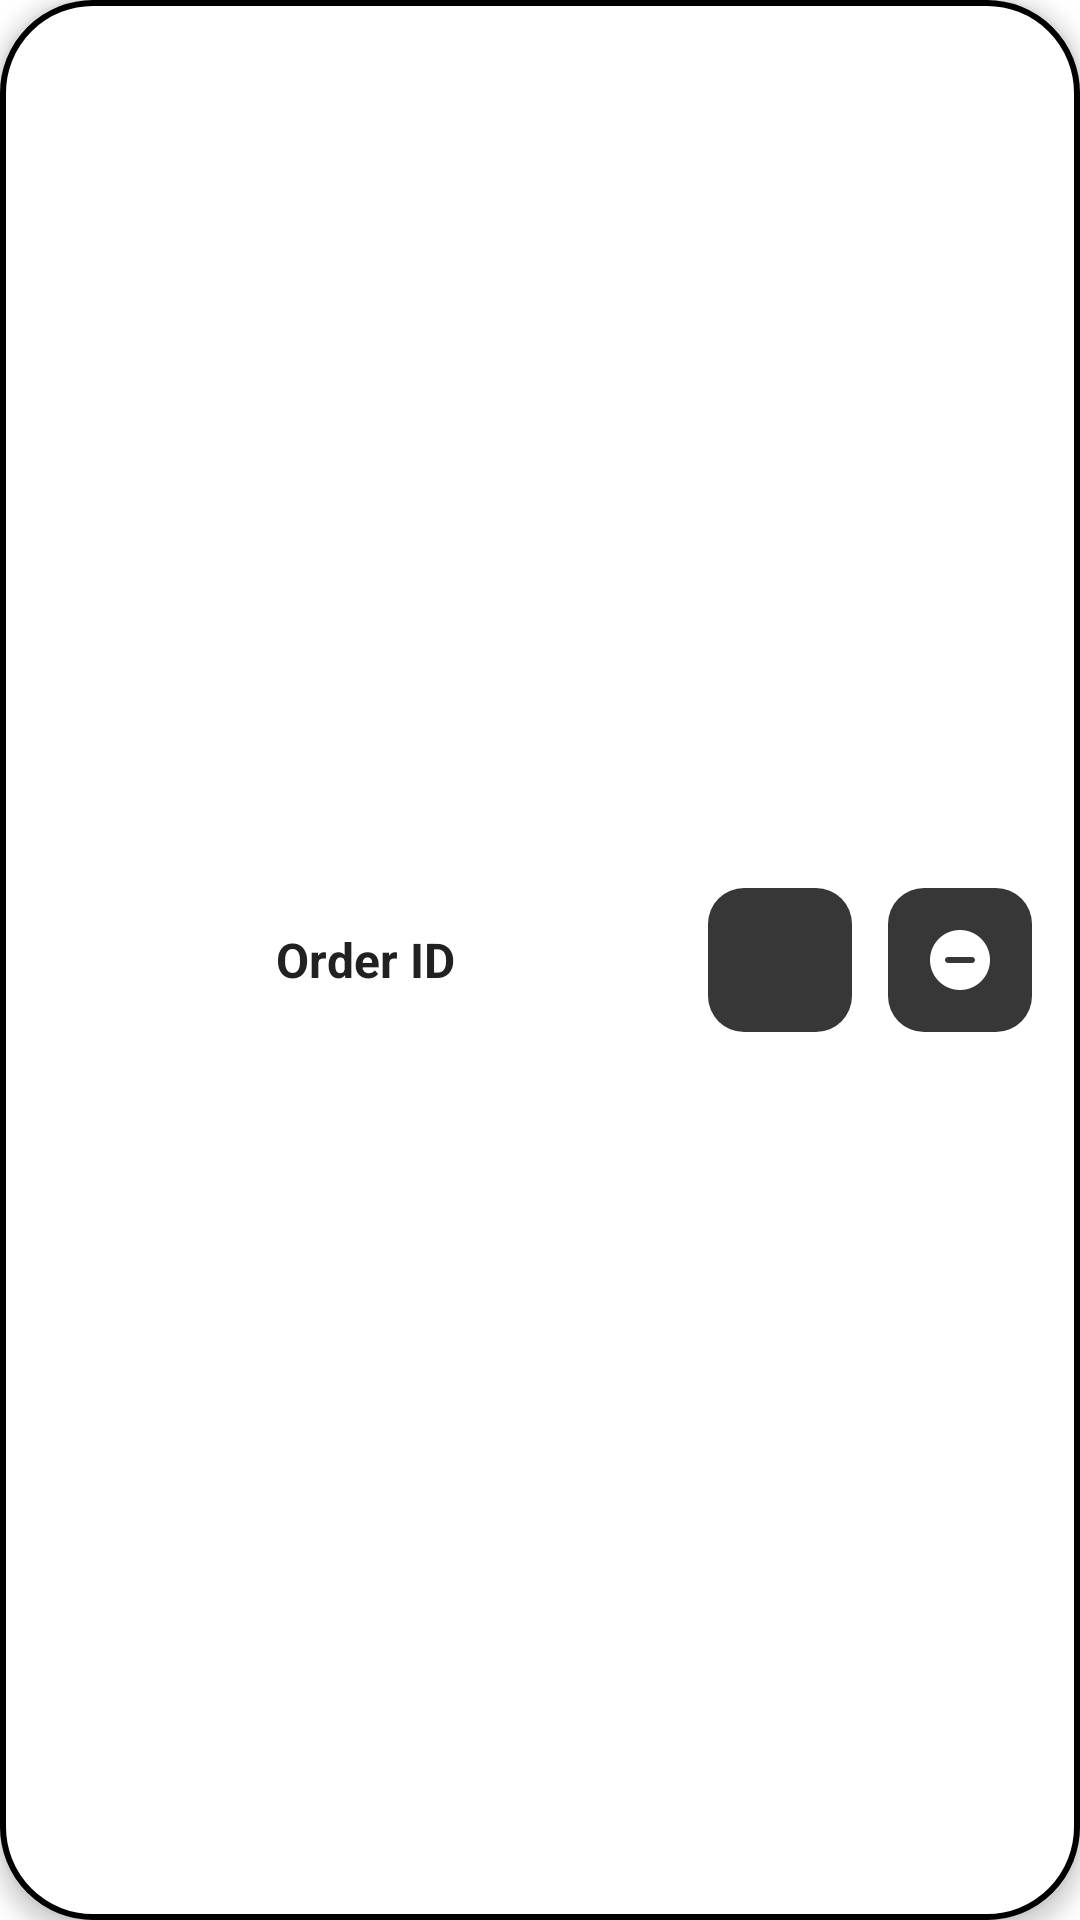

Locate icon controls on the screen. Image size 1080×1920, boxes as (x1, y1, x2, y2).
Reject: (888, 888, 1032, 1032)
